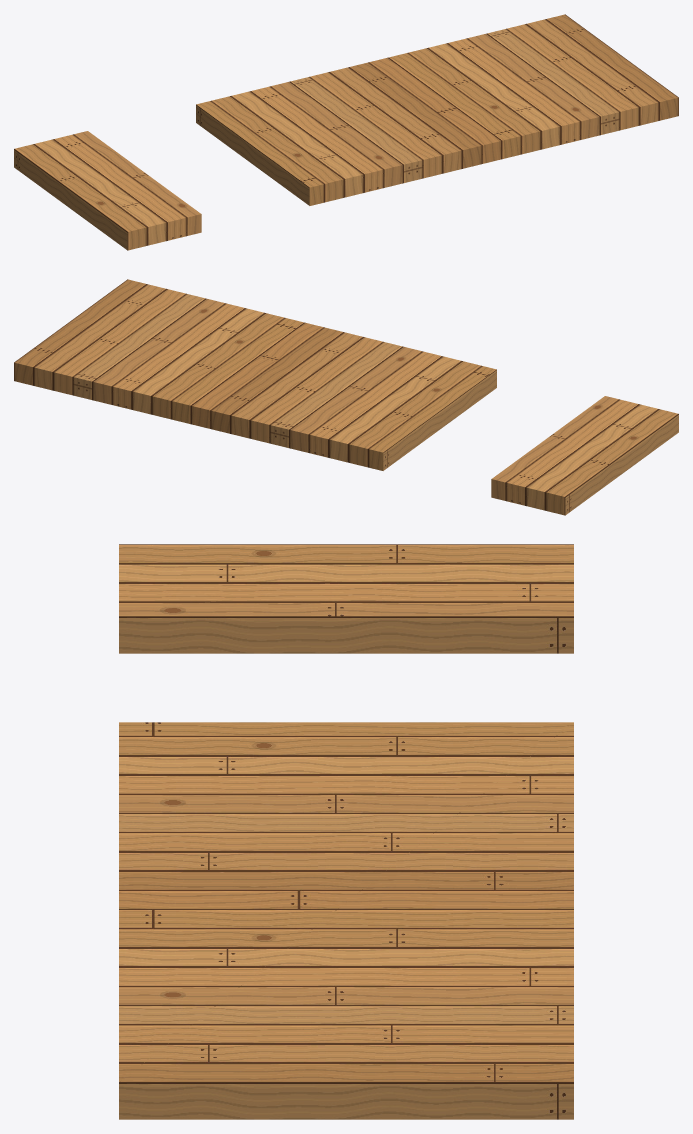
Rendered from STAIR_PORT_START.glb.
3 renders of one model, top to bottom at view 1: azimuth 30°, elevation 25°; view 2: azimuth 150°, elevation 25°; view 3: azimuth 270°, elevation 25°, orthographic. The views are drawn at different scales.
Visible parts, largest first — view 1: STAIR_PORT_START; view 2: STAIR_PORT_START; view 3: STAIR_PORT_START.
Boxes of the visible parts, left/top/right/bottom form: STAIR_PORT_START: left=14, top=14, right=678, bottom=250; STAIR_PORT_START: left=14, top=279, right=678, bottom=515; STAIR_PORT_START: left=119, top=544, right=573, bottom=1119.
Bounding box in the file's own units: 5.6 × 0.18 × 2.
1 material, 1 textured.
